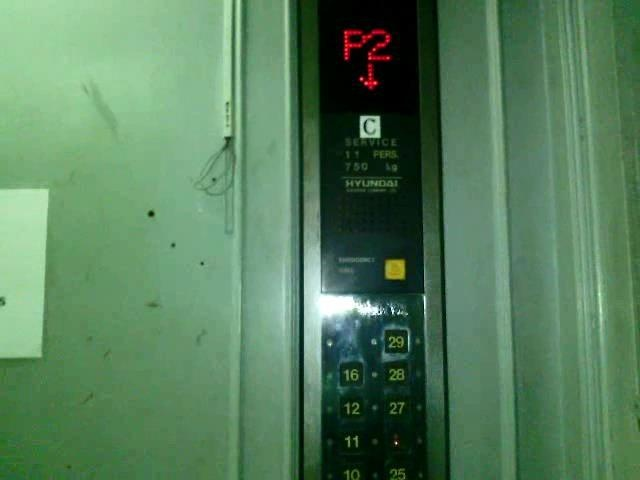11: (339, 432, 366, 456)
12: (339, 396, 365, 421)
16: (339, 363, 364, 388)
27: (385, 396, 411, 421)
28: (385, 361, 408, 386)
29: (384, 330, 409, 354)
alarm: (385, 259, 406, 279)
led: (336, 17, 399, 117)
